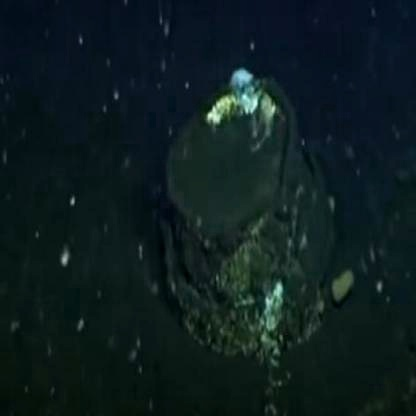misc: (157, 78, 335, 355)
